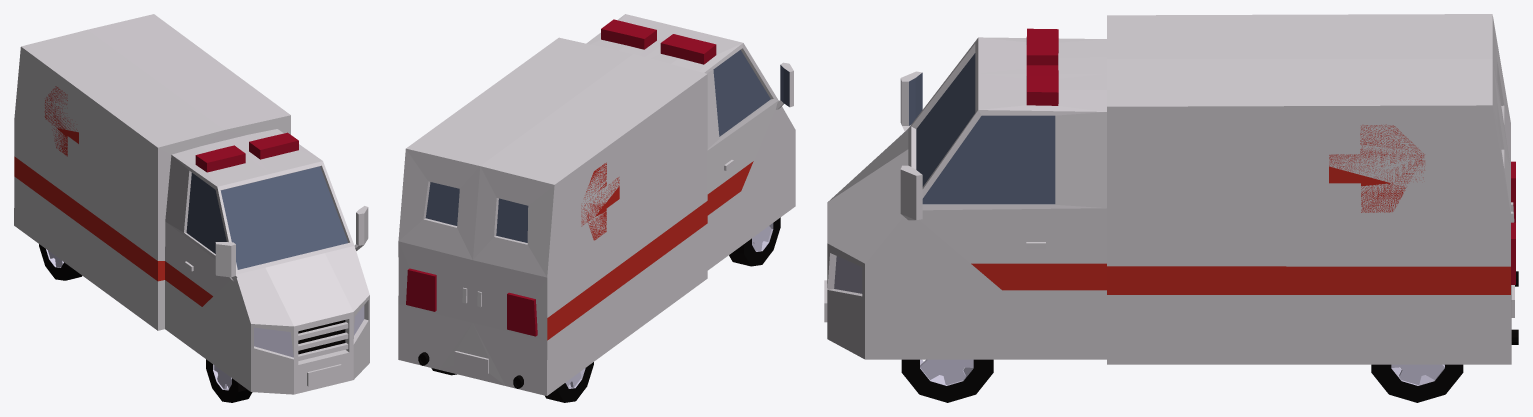
The model's file is ambulance-van.glb.
3 views of the same model, side by side, from view 1: azimuth 30°, elevation 25°; view 2: azimuth 150°, elevation 25°; view 3: azimuth 270°, elevation 25° (orthographic). The views are drawn at different scales.
Parts seen in each view (by area): view 1: ambulance-van; view 2: ambulance-van; view 3: ambulance-van.
Part boxes in pixels (bbox=[...]): ambulance-van: bbox=[14, 14, 369, 402]; ambulance-van: bbox=[398, 14, 795, 402]; ambulance-van: bbox=[824, 14, 1518, 402].
Bounding box in the file's own units: 2.1 × 2.85 × 5.9.
